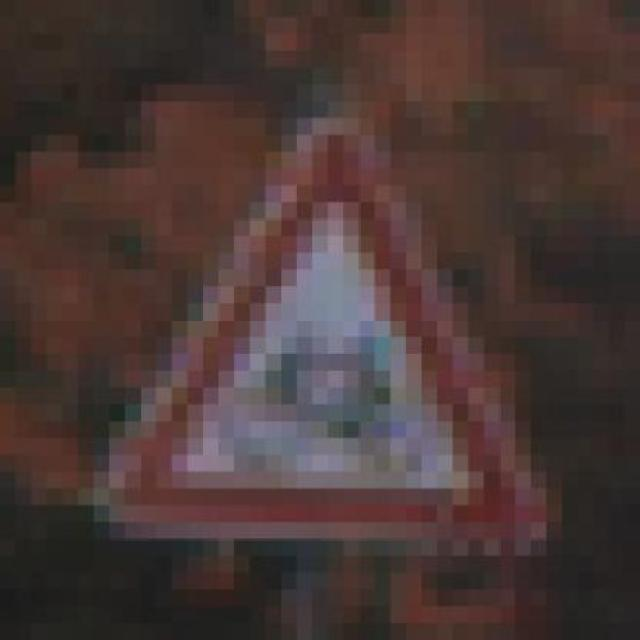CYCLE ROUTE AHEAD WARNING: (78, 101, 562, 573)
